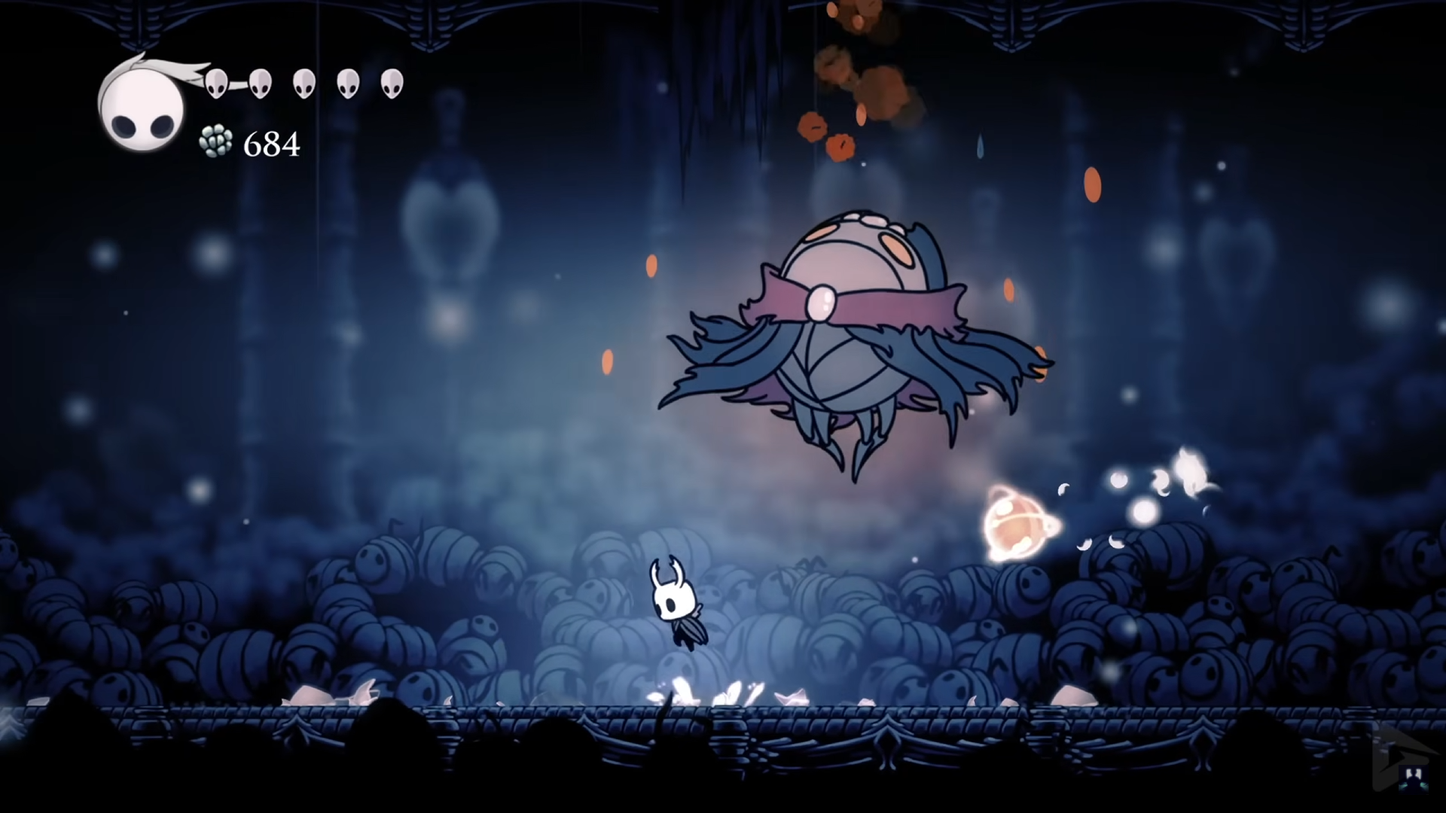HK: (648, 549, 707, 655)
